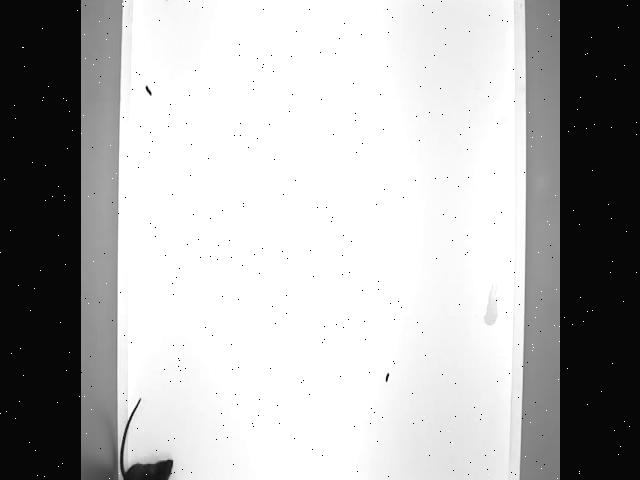Tikus: (112, 398, 178, 480)
